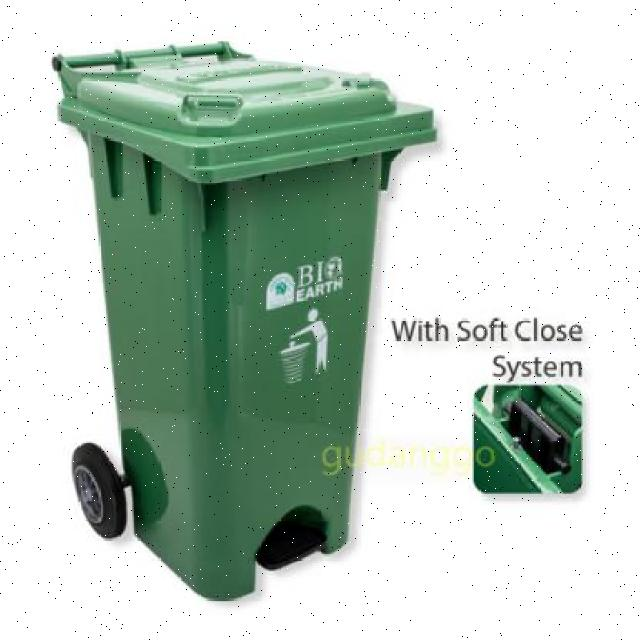garbage container: (36, 28, 447, 609)
